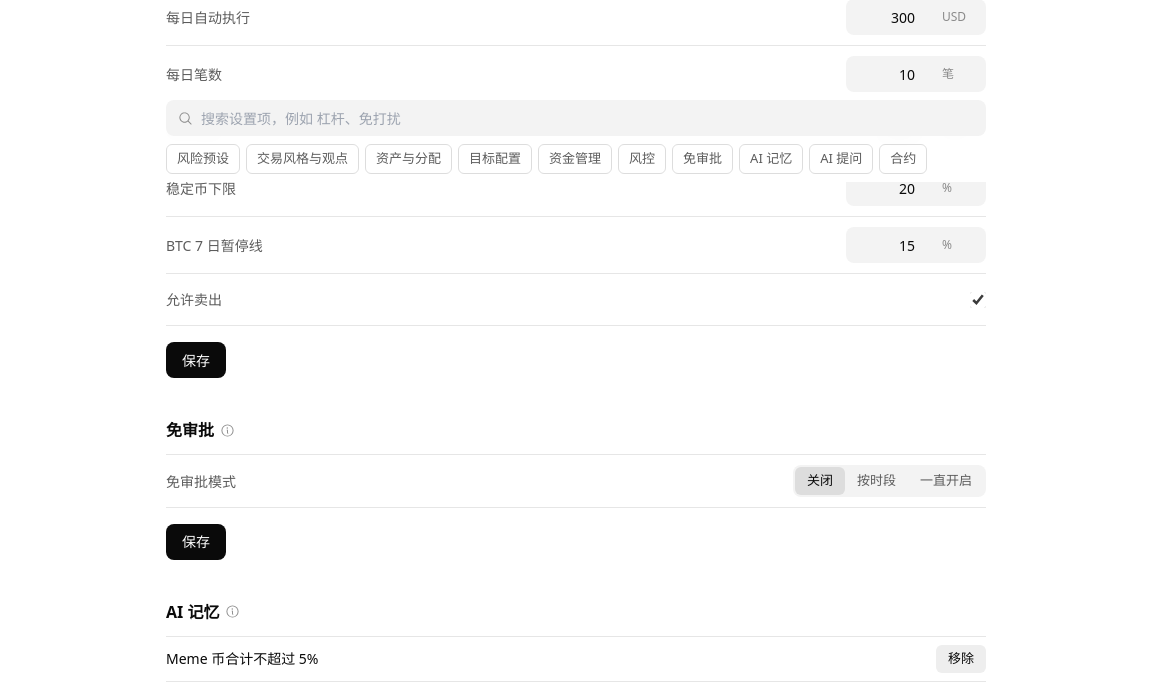
Scenario: Config page (配置) › offers a new decision round after a change the AI should adapt to
The width and height of the screenshot is (1152, 694).
(page scrolled)
Step 1. Click the button "保存" below "允许卖出" → x=196, y=360, box 166,342 -> 226,378
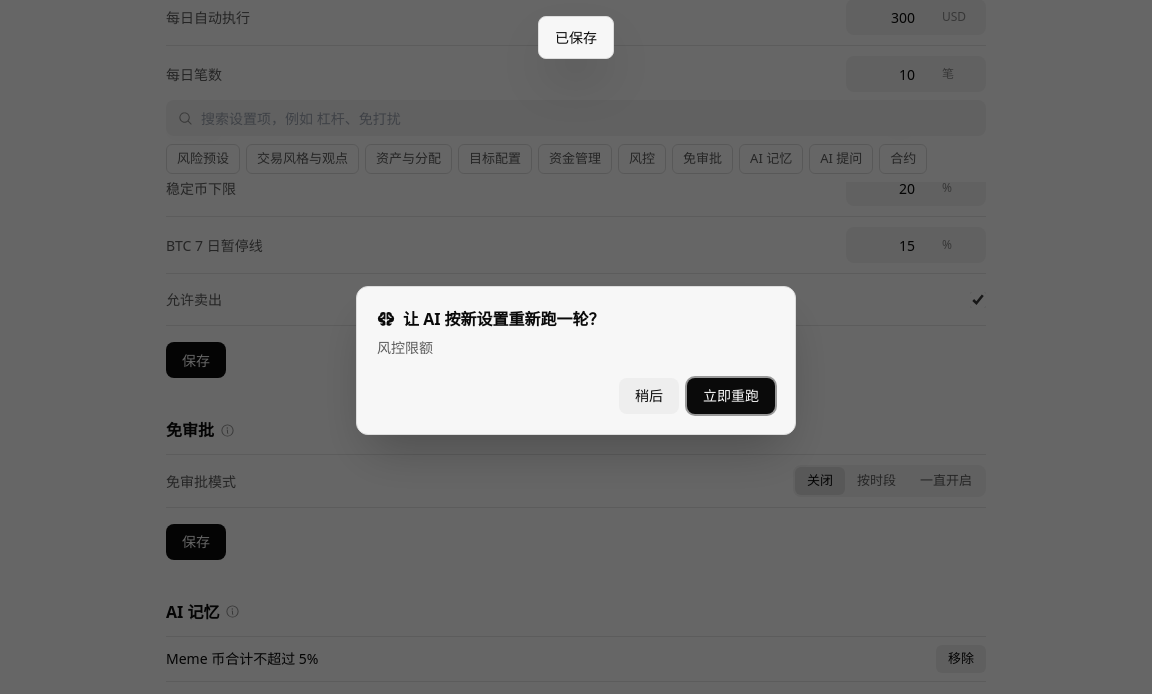
Expected: the dialog shows "风控限额", 377,338 -> 433,356
Step 2. Click the button "立即重跑" → x=731, y=396, box 687,378 -> 775,414
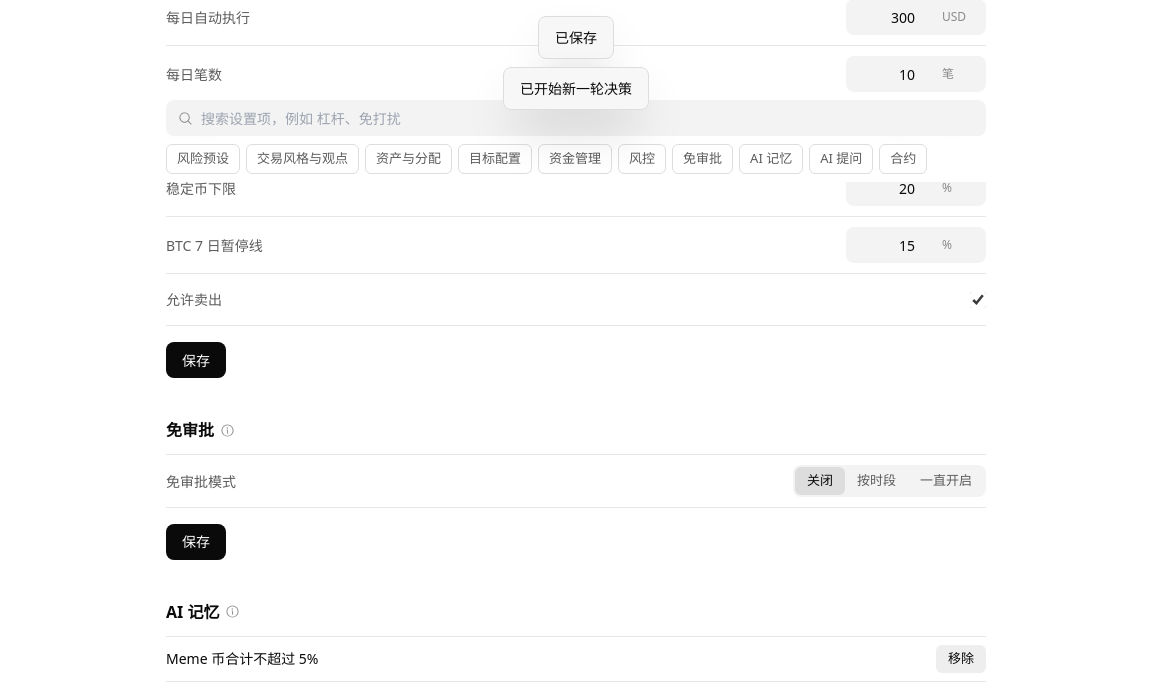
Expected: the dialog is gone
